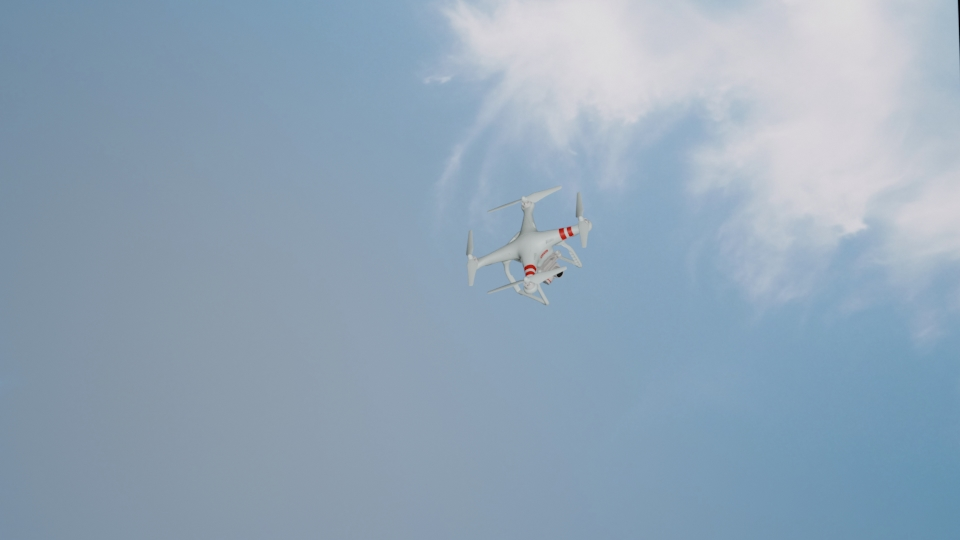drone: (464, 181, 589, 305)
